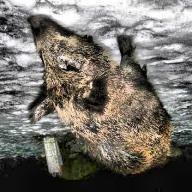boar: (16, 10, 188, 180)
